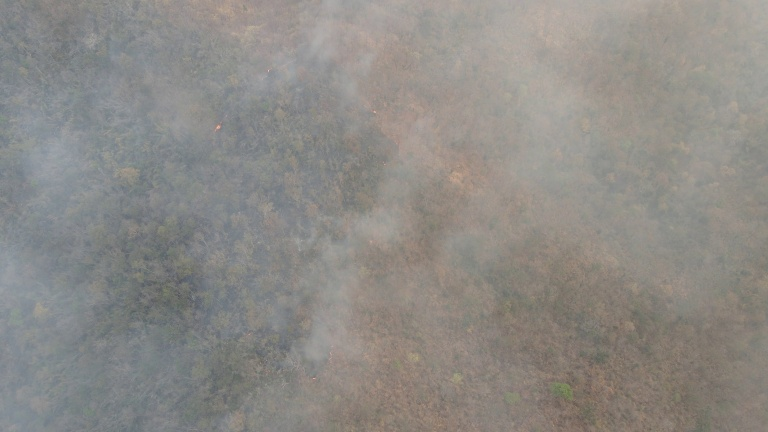fire: (208, 108, 228, 153)
smoke: (1, 1, 452, 430), (461, 1, 768, 275)
